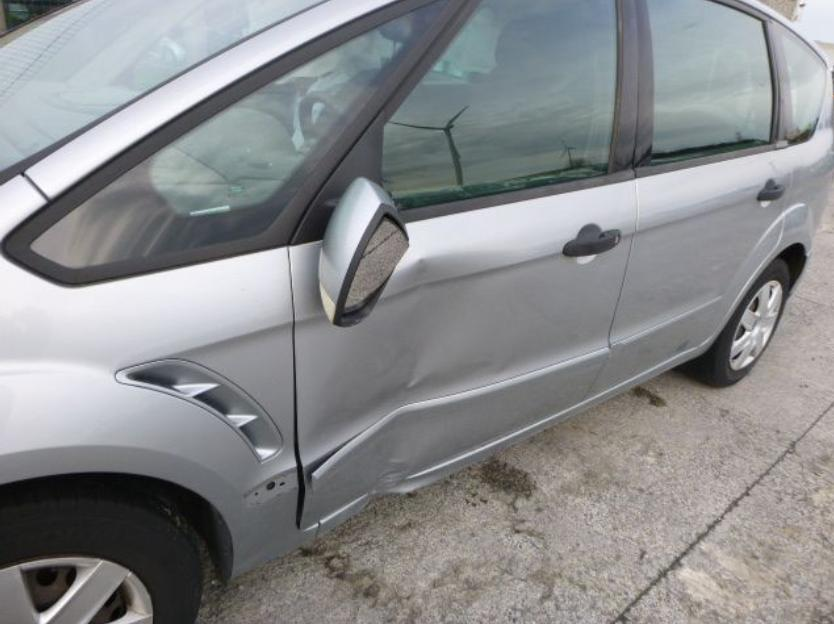Back-door: (589, 2, 791, 398)
Back-wheel: (678, 258, 791, 386)
Back-window: (648, 2, 775, 162), (775, 23, 826, 139)
Fender: (0, 173, 318, 583)
Front-door: (287, 1, 637, 534)
Front-wheel: (0, 481, 203, 624)
Front-window: (31, 2, 621, 270)
Mirror: (319, 175, 409, 332)
Quarter-panel: (775, 65, 833, 281)
Rocker-panel: (317, 341, 715, 541)
Windshield: (0, 1, 324, 186)
